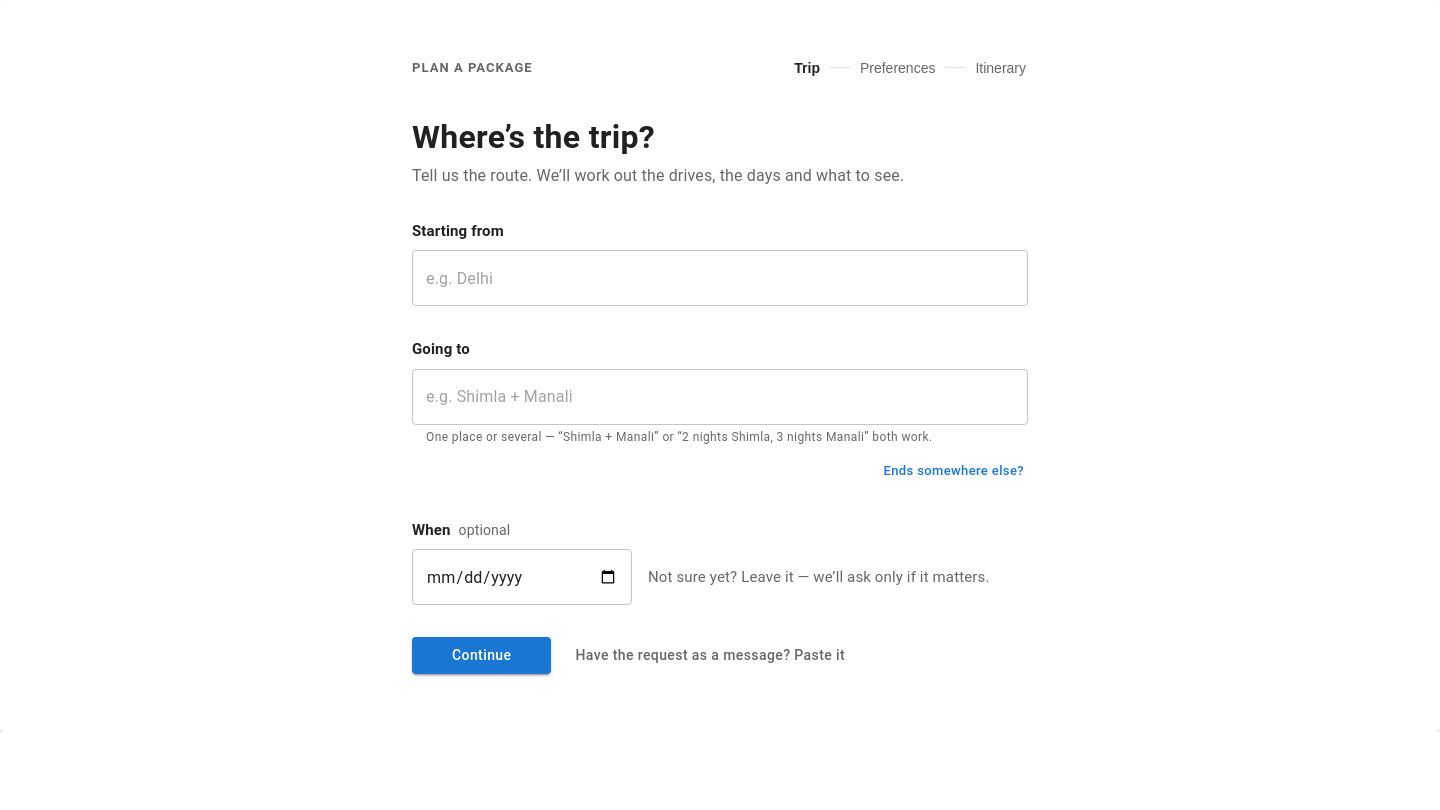
Package planner — the simple flow › continuing without the basics explains what is missing, in plain words
The width and height of the screenshot is (1440, 810).
Click the button "Continue" at (482, 655), box x1=412 y1=637 x2=551 y2=674
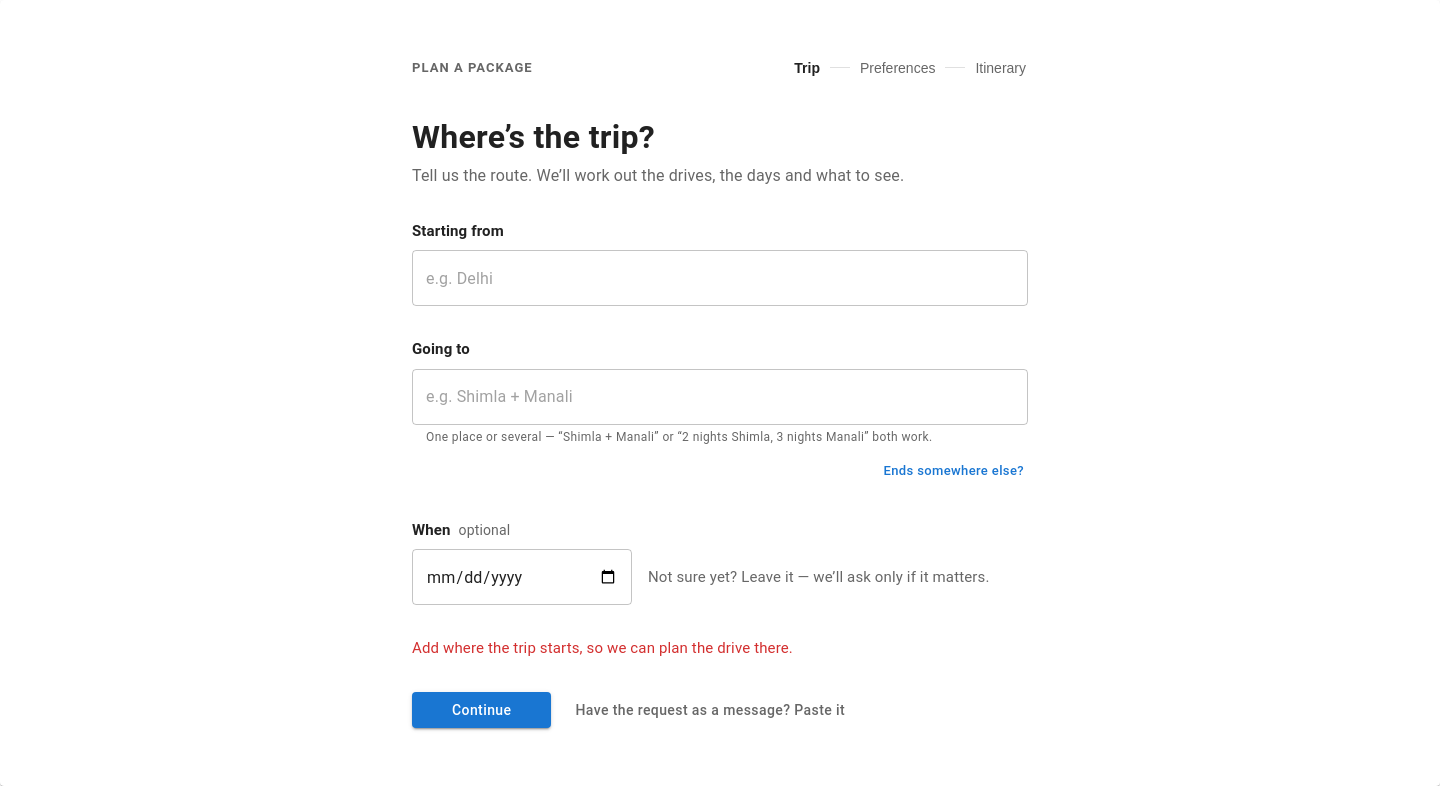
Check: the message shows "Add where the trip starts", box x1=412 y1=639 x2=793 y2=657
